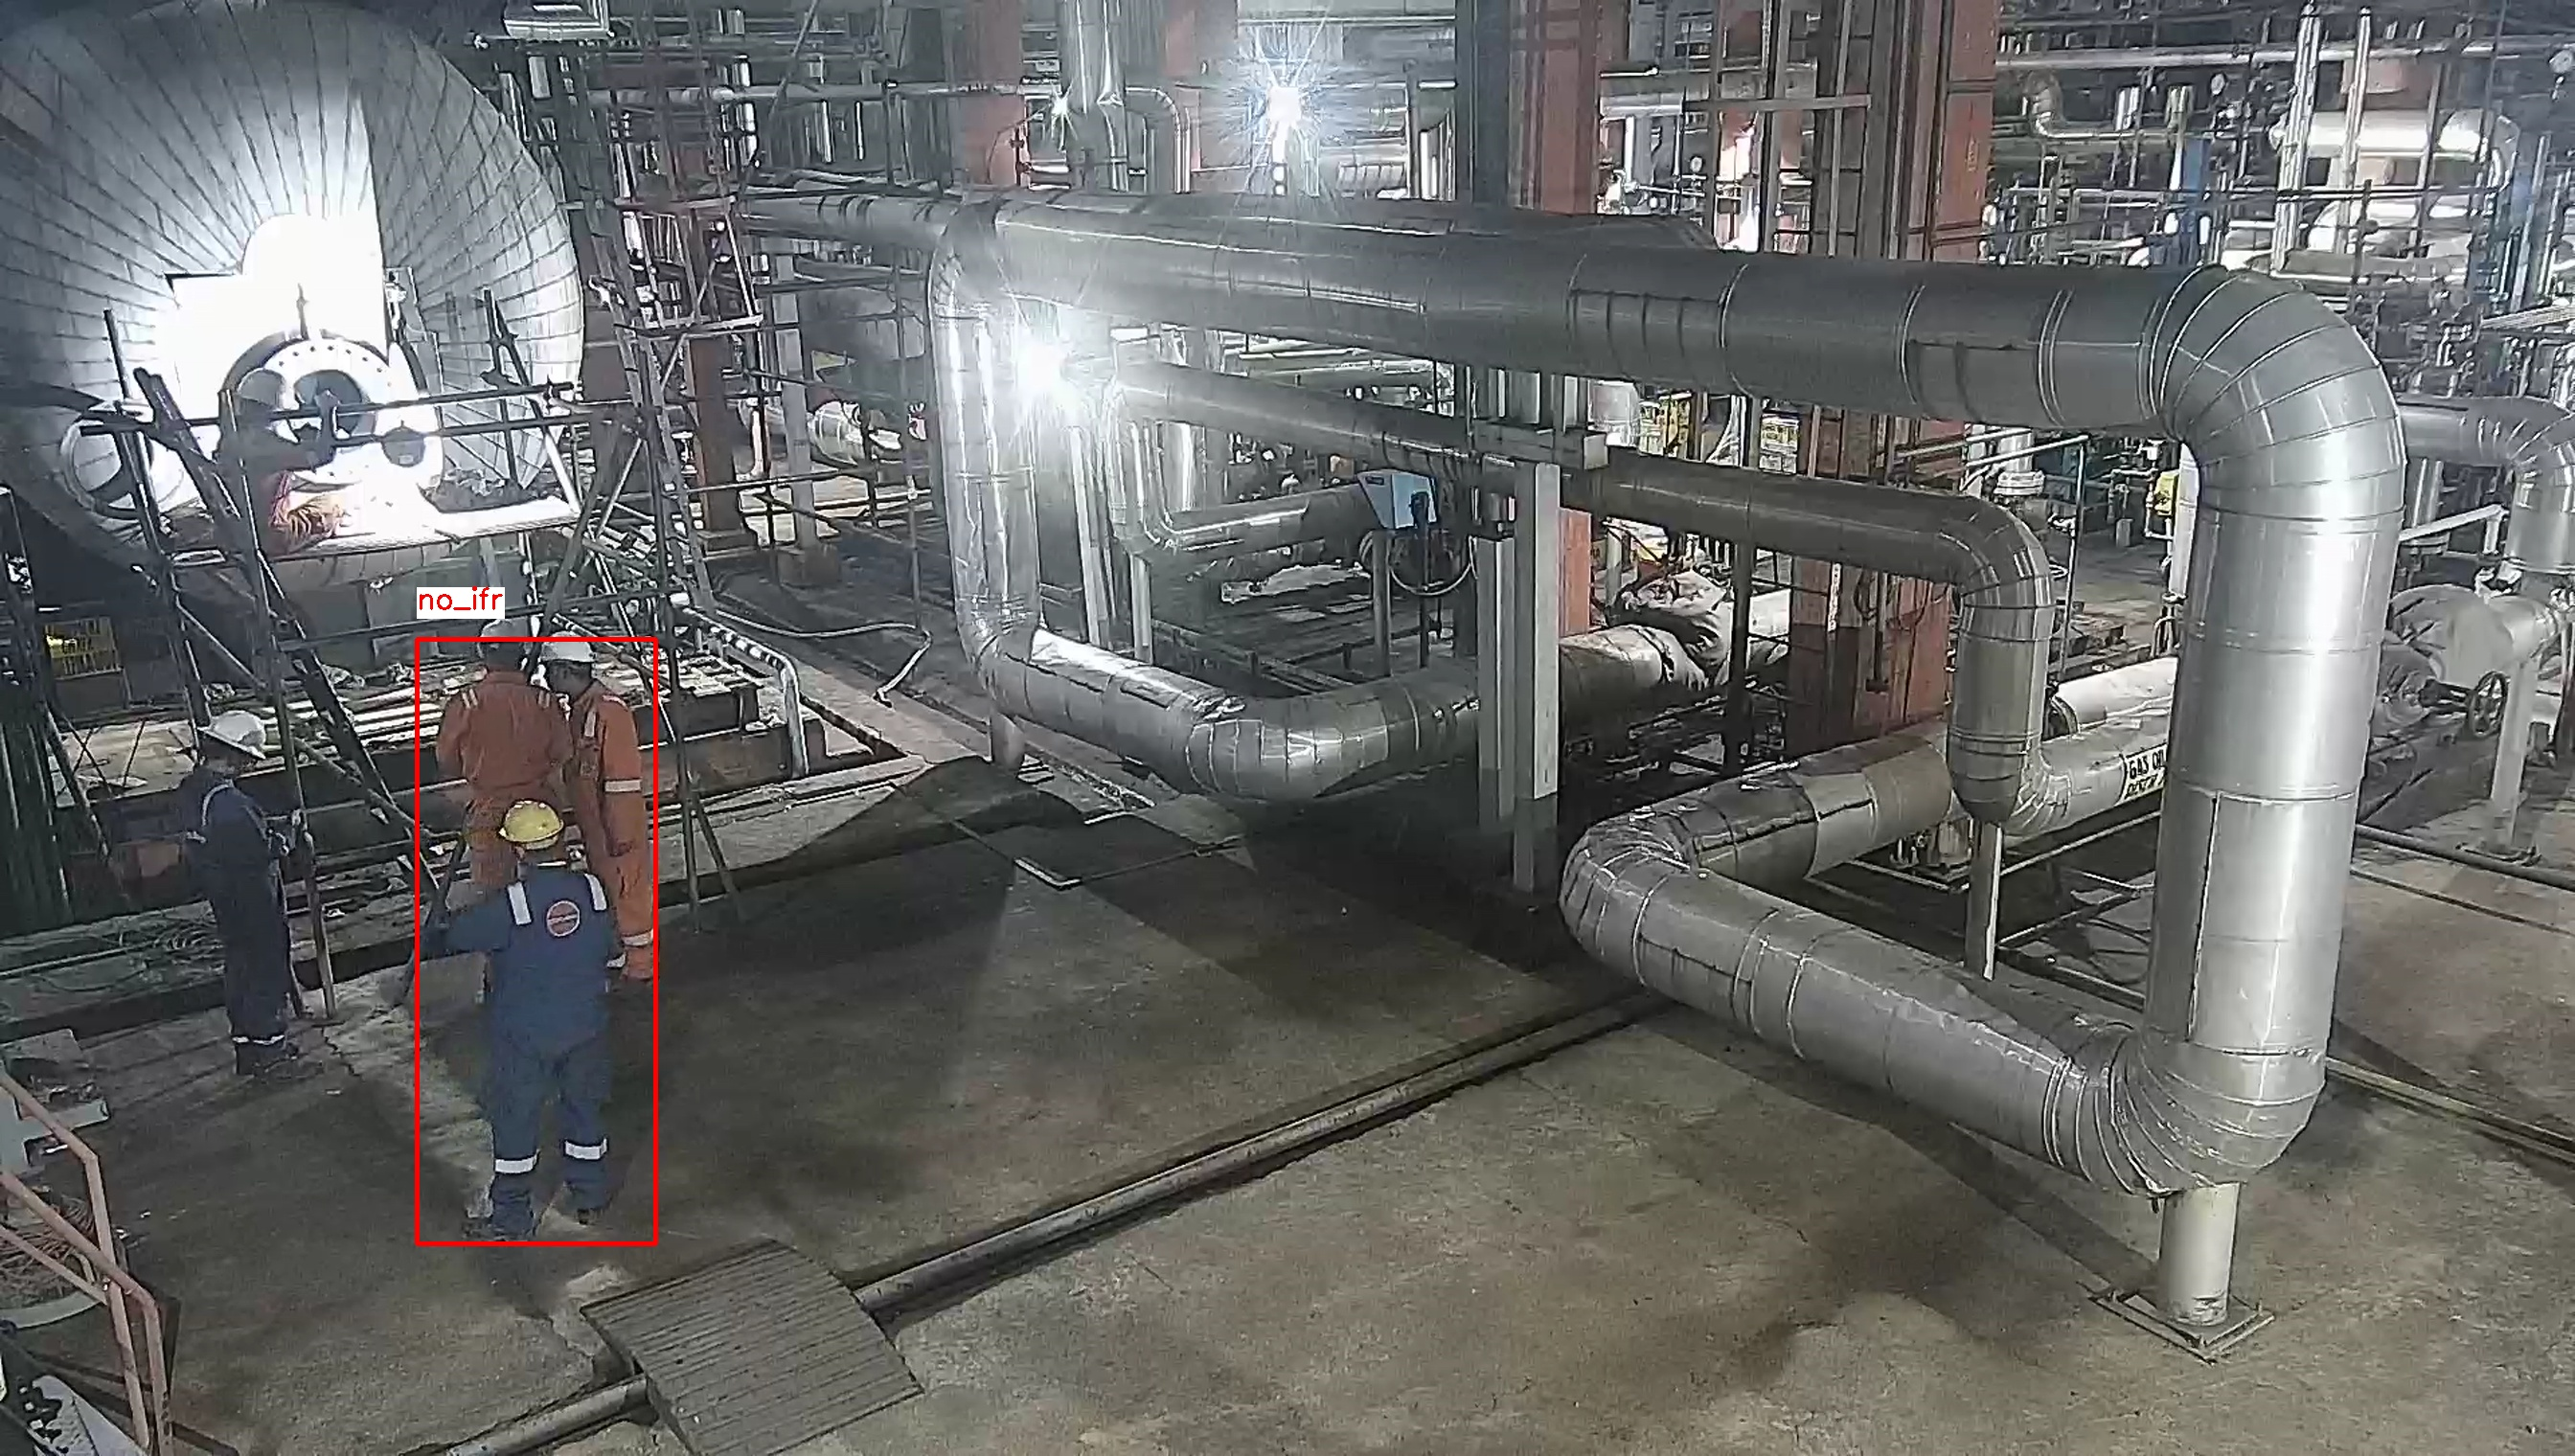Helmets: (189, 706, 276, 761), (499, 798, 573, 851)
IFR_Suit: (444, 867, 638, 1212), (180, 777, 325, 1077), (569, 686, 670, 987)
